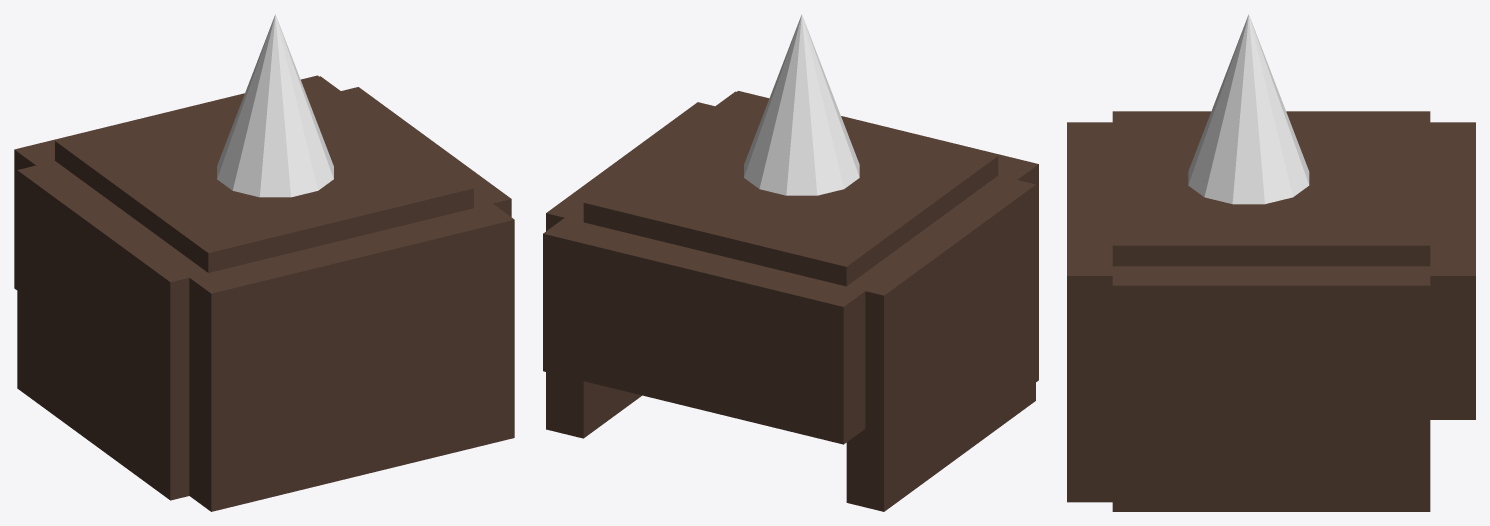
Rendered from viking_helmet.gltf.
3 views of the same model, side by side, from view 1: azimuth 30°, elevation 25°; view 2: azimuth 150°, elevation 25°; view 3: azimuth 270°, elevation 25° (orthographic). The views are drawn at different scales.
Visible parts, largest first — view 1: viking_helm; view 2: viking_helm; view 3: viking_helm.
Boxes of the visible parts, left/top/right/bottom form: viking_helm: left=14, top=14, right=514, bottom=511; viking_helm: left=543, top=14, right=1038, bottom=511; viking_helm: left=1067, top=14, right=1475, bottom=511.
Size of the model in its own units: 1.12 by 1.25 by 1.12.
2 materials, 1 textured.
